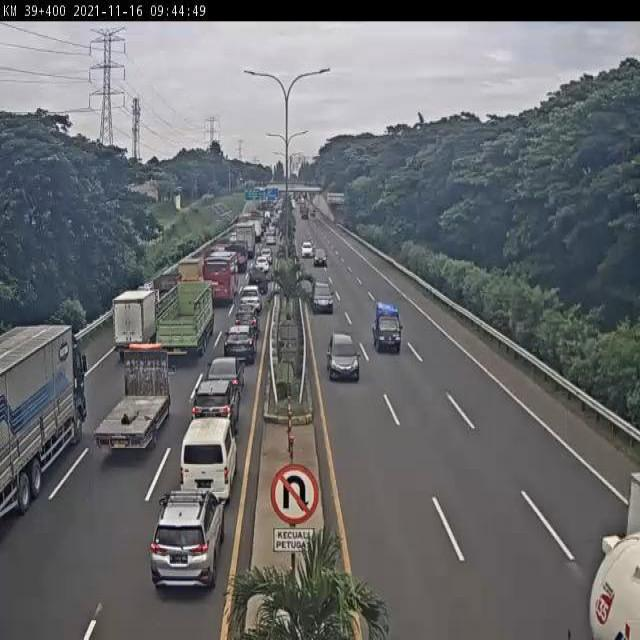big bus: (199, 248, 239, 307)
car: (151, 489, 225, 596), (188, 382, 236, 447), (324, 332, 361, 383), (205, 355, 246, 396), (371, 301, 404, 351), (223, 327, 255, 365), (309, 278, 336, 310), (232, 308, 259, 335), (236, 288, 261, 316)
small bus: (181, 422, 241, 507)
small truck: (173, 253, 206, 300)
truck-l-: (0, 320, 89, 528), (157, 277, 216, 363)
truck-m-: (98, 351, 173, 453), (111, 287, 157, 356), (150, 274, 181, 302)
